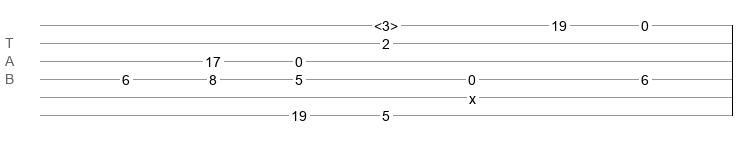0: (295, 54, 303, 64), (468, 72, 476, 82), (641, 18, 649, 28)
17: (205, 54, 221, 64)
19: (291, 108, 307, 118), (551, 18, 567, 28)
2: (382, 36, 390, 46)
5: (295, 72, 303, 82), (382, 108, 390, 118)
6: (122, 72, 130, 82), (641, 72, 649, 82)
8: (209, 72, 217, 82)
harmonic: (374, 18, 398, 28)
x: (469, 91, 476, 99)
